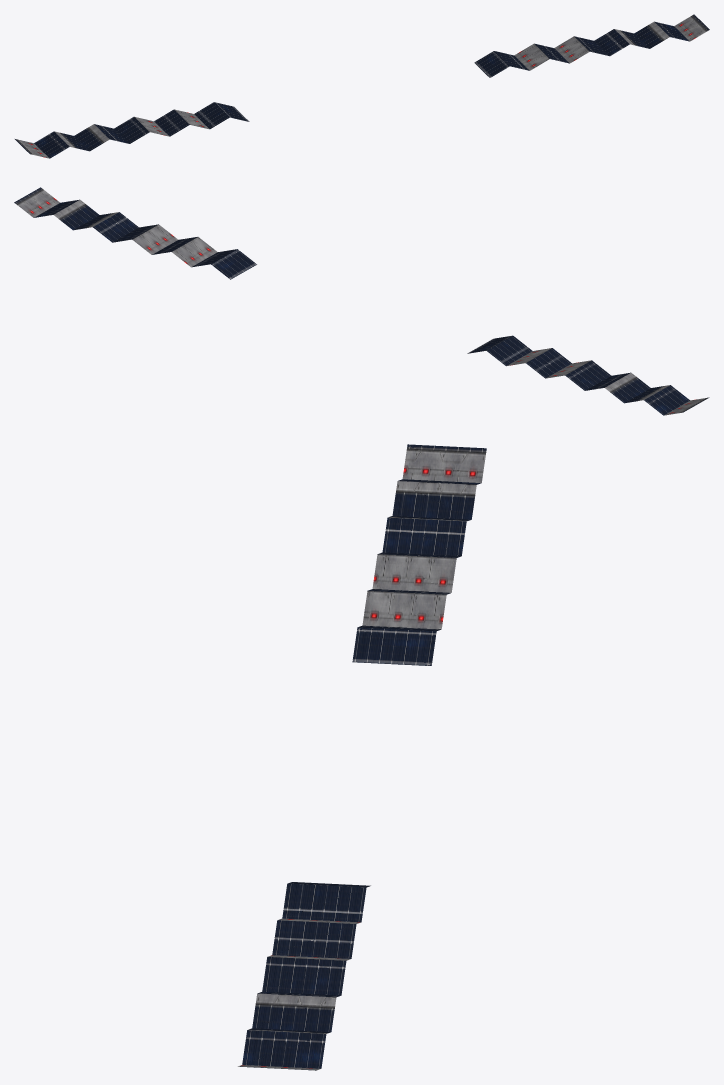
File: satelite_01_panel_06.obj
3 renders of one model, top to bottom at view 1: azimuth 30°, elevation 25°; view 2: azimuth 150°, elevation 25°; view 3: azimuth 270°, elevation 25°, orthographic. The views are drawn at different scales.
Parts seen in each view (by area): view 1: orbital1_panel_5; view 2: orbital1_panel_5; view 3: orbital1_panel_5.
Boxes of the visible parts, x1=… form: orbital1_panel_5: x1=15, y1=14, x2=709, y2=158; orbital1_panel_5: x1=14, y1=187, x2=709, y2=415; orbital1_panel_5: x1=238, y1=444, x2=486, y2=1070.
Size of the model in its own units: 0.8123 by 0.00999 by 0.1369.
1 material, 1 textured.
